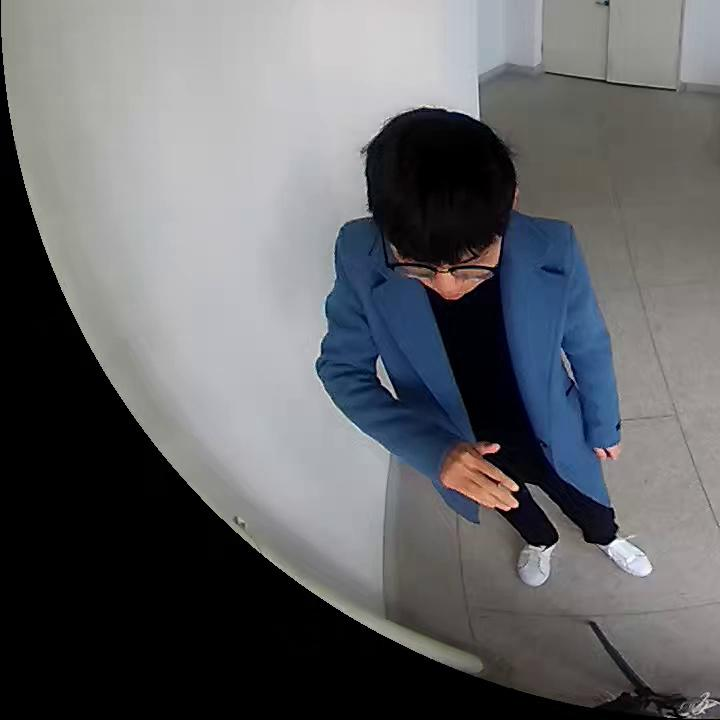handsmoke: (440, 444, 520, 516)
handwithoutsmoke: (588, 442, 625, 464)
mouthwithoutsmoke: (370, 106, 522, 302)
